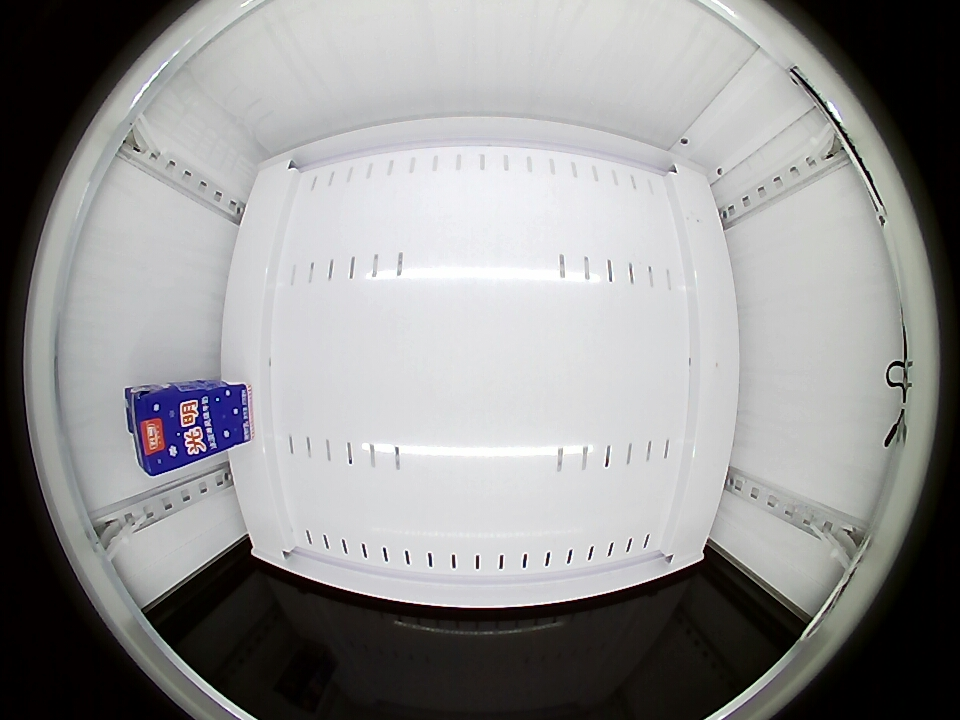bingqilinniunai: (126, 383, 198, 477)
